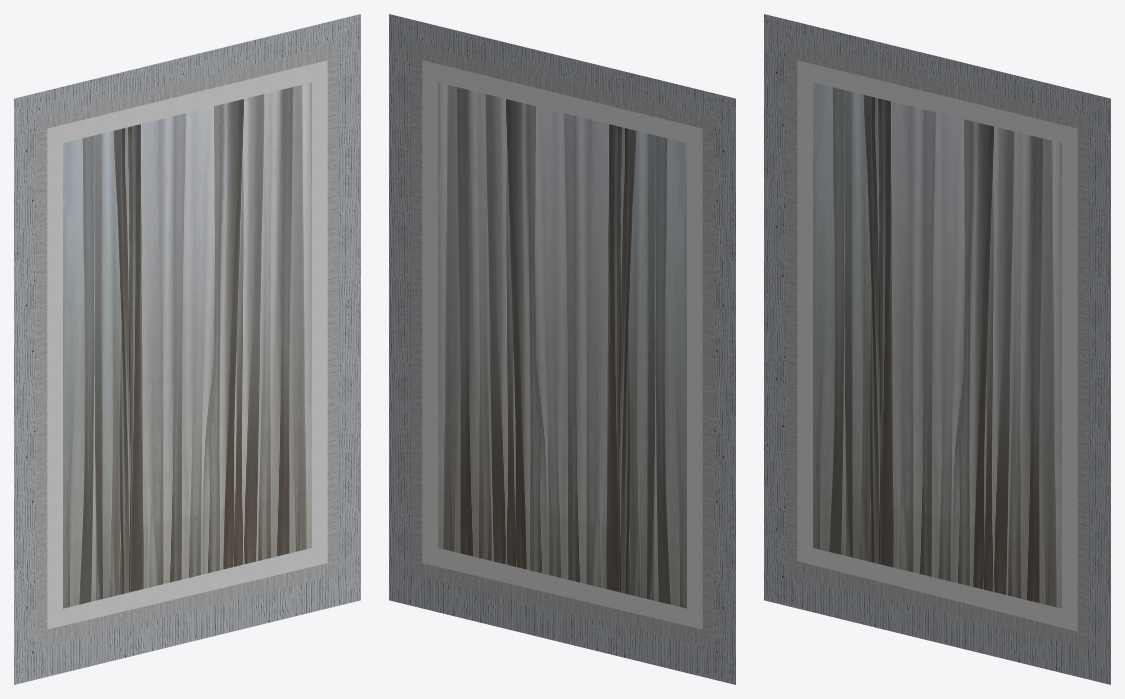
File: Window1.LOD.glb
The picture shows the model from 3 angles, left to right: view 1: azimuth 30°, elevation 25°; view 2: azimuth 150°, elevation 25°; view 3: azimuth 330°, elevation 25°; orthographic projection.
Parts seen in each view (by area): view 1: Cube; view 2: Cube; view 3: Cube.
Boxes of the visible parts, x1,y1,x2,y2 form: Cube: (14,14,360,684); Cube: (389,14,735,684); Cube: (764,14,1110,684).
Bounding box in the file's own units: 2.92 × 4.71 × 0.
4 materials, 4 textured.
